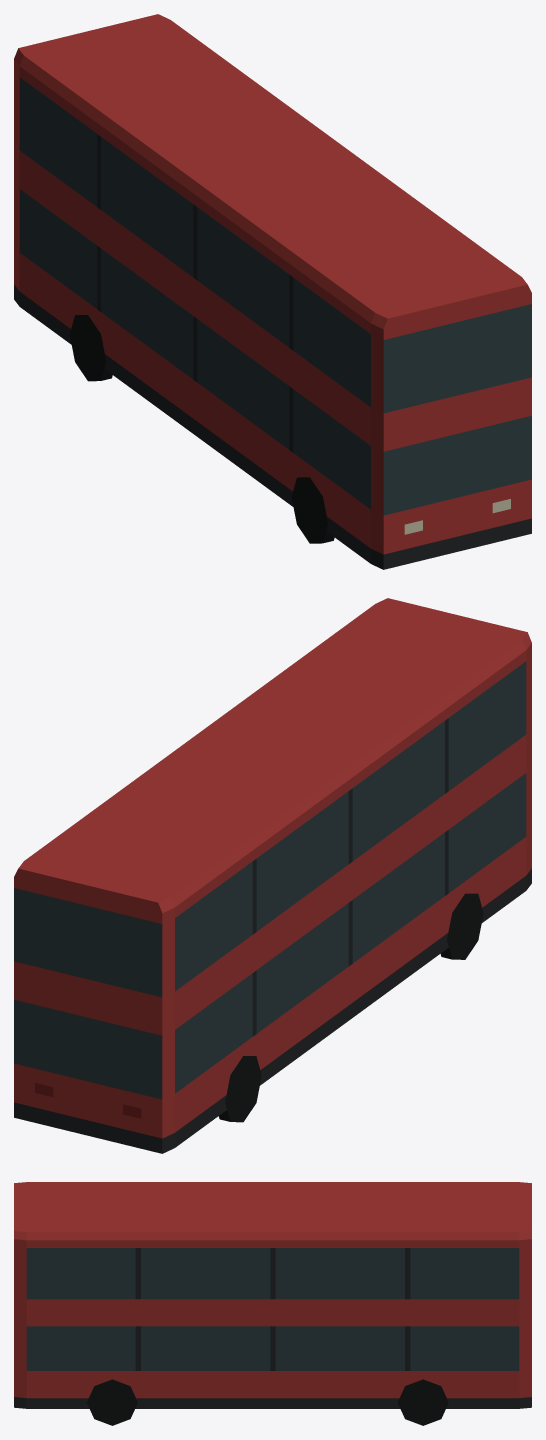
The model's file is bussi-2-tavallinen.glb.
3 views of the same model, one above another, from view 1: azimuth 30°, elevation 25°; view 2: azimuth 150°, elevation 25°; view 3: azimuth 270°, elevation 25° (orthographic). The views are drawn at different scales.
Visible parts, largest first — view 1: bussi-2-tavallinen; view 2: bussi-2-tavallinen; view 3: bussi-2-tavallinen.
Boxes of the visible parts, bbox=[...] form: bussi-2-tavallinen: bbox=[14, 14, 531, 569]; bussi-2-tavallinen: bbox=[14, 598, 531, 1153]; bussi-2-tavallinen: bbox=[14, 1182, 531, 1425].
Bounding box in the file's own units: 2.55 × 4.3 × 10.5.
